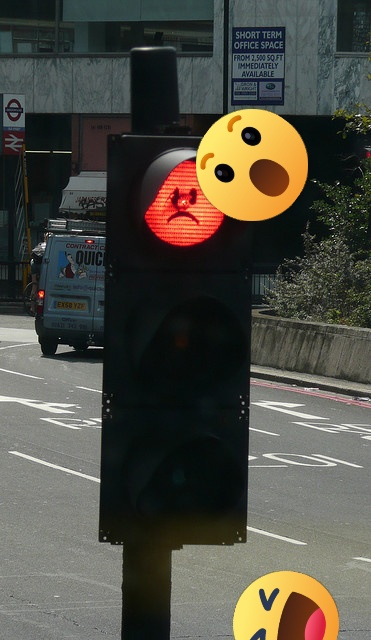haha: (233, 571, 339, 640)
wow: (196, 109, 308, 221)
